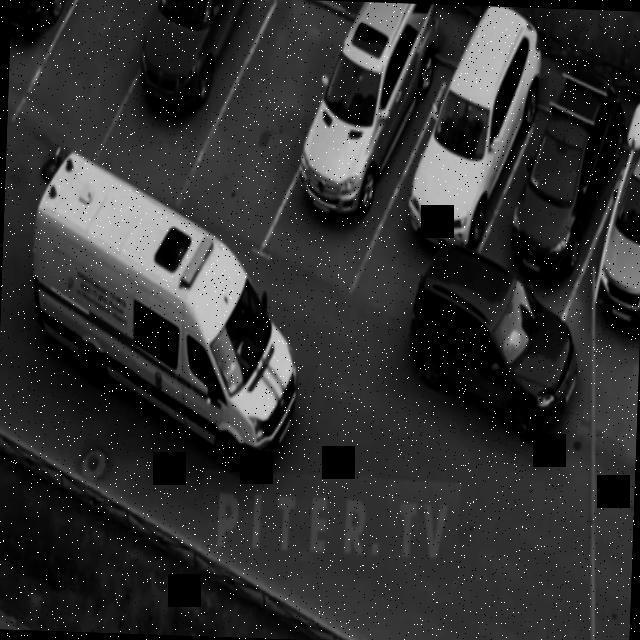car: (274, 0, 446, 287), (366, 17, 534, 304), (476, 51, 626, 336), (100, 0, 265, 203), (584, 88, 640, 370), (7, 0, 98, 117)
free: (172, 0, 349, 234), (25, 0, 176, 183)
